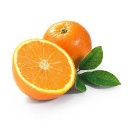orange: (12, 38, 77, 102)
